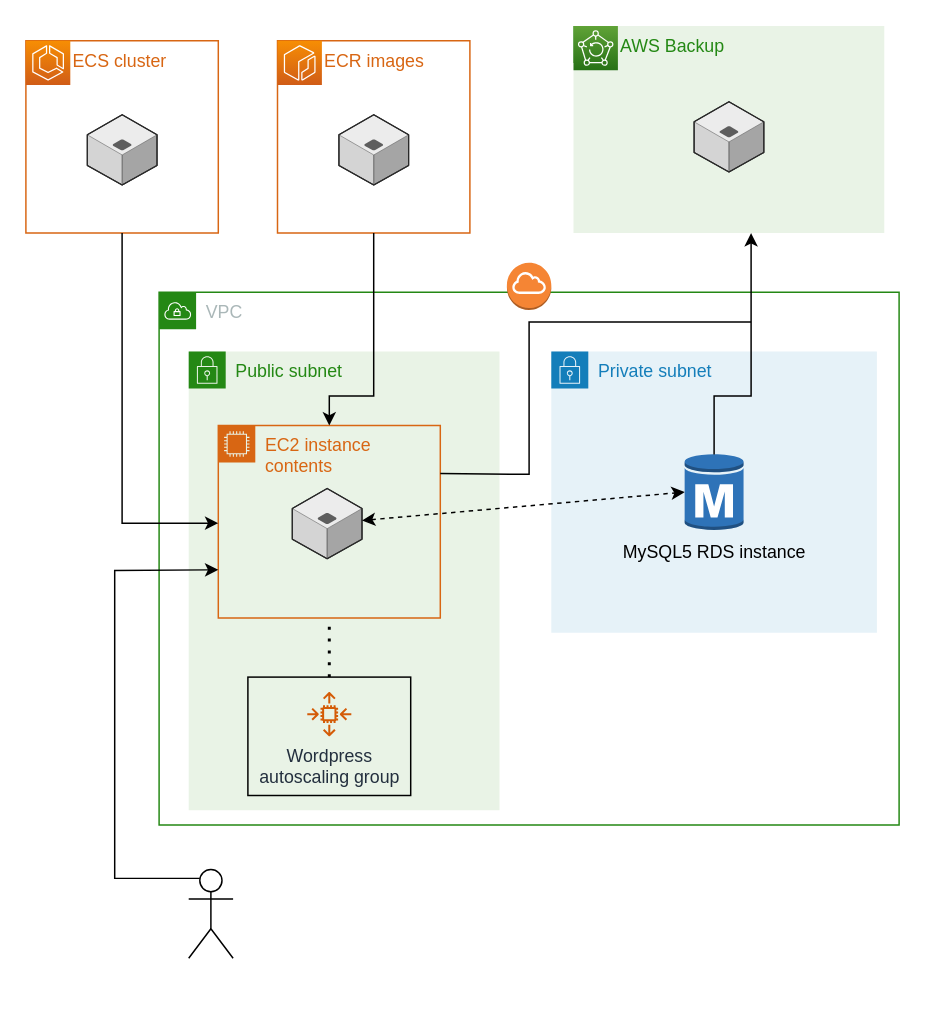
Image size: 925x1015. Some labels were removed from this diagram. The centre of each missing label's shape, as x and y in pixels:
Backup Vault: point (728, 136)
EC2 Node (WordPress): point (326, 523)
User: point (210, 913)
WordPress image: point (373, 149)
Wordpress service: point (121, 149)
